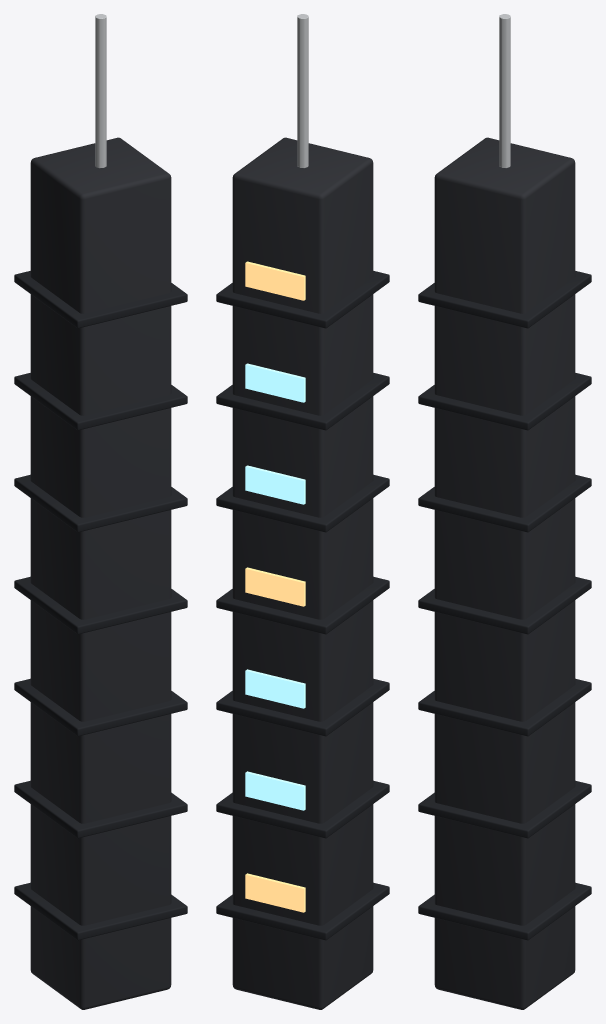
Rendered from utility_tower.glb.
3 views of the same model, side by side, from view 1: azimuth 30°, elevation 25°; view 2: azimuth 150°, elevation 25°; view 3: azimuth 330°, elevation 25° (orthographic).
Visible parts, largest first — view 1: Shaft, UtilRing0, UtilRing4, UtilRing1, UtilRing2, UtilRing3, UtilRing5, UtilRing6, Mast; view 2: Shaft, UtilRing0, UtilRing4, UtilRing1, UtilRing2, UtilRing3, UtilRing5, UtilRing6, Mast, UtilW0, UtilW1, UtilW2 (+4 smaller); view 3: Shaft, UtilRing0, UtilRing4, UtilRing1, UtilRing2, UtilRing3, UtilRing5, UtilRing6, Mast.
Boxes of the visible parts, box(x1,y1,x2,y2) form: Shaft: box(30, 137, 171, 1009); UtilRing0: box(14, 882, 187, 940); UtilRing4: box(14, 474, 187, 532); UtilRing1: box(14, 780, 187, 838); UtilRing2: box(14, 678, 187, 736); UtilRing3: box(14, 576, 187, 634); UtilRing5: box(14, 373, 187, 430); UtilRing6: box(14, 271, 187, 328); Mast: box(95, 14, 106, 168); Shaft: box(232, 137, 373, 1009); UtilRing0: box(216, 882, 389, 940); UtilRing4: box(216, 474, 389, 532); UtilRing1: box(216, 780, 389, 838); UtilRing2: box(216, 678, 389, 736); UtilRing3: box(216, 576, 389, 634); UtilRing5: box(216, 373, 389, 430); UtilRing6: box(216, 271, 389, 328); Mast: box(297, 14, 308, 168); UtilW0: box(245, 873, 305, 912); UtilW1: box(245, 771, 305, 810); UtilW2: box(245, 669, 305, 708); Shaft: box(434, 137, 575, 1009); UtilRing0: box(418, 882, 591, 940); UtilRing4: box(418, 474, 591, 532); UtilRing1: box(418, 780, 591, 838); UtilRing2: box(418, 678, 591, 736); UtilRing3: box(418, 576, 591, 634); UtilRing5: box(418, 373, 591, 430); UtilRing6: box(418, 271, 591, 328); Mast: box(499, 14, 510, 168).
Bounding box in the file's own units: 1.7 × 14.2 × 1.7.
